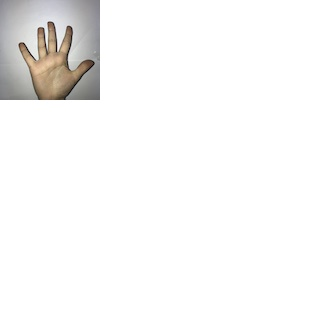paper: (16, 19, 94, 98)
